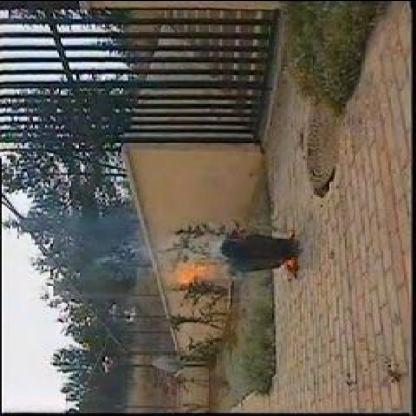-: (97, 231, 229, 259)
foggia-v2-map80-epoch100 - v1 4323: (156, 261, 210, 285)
